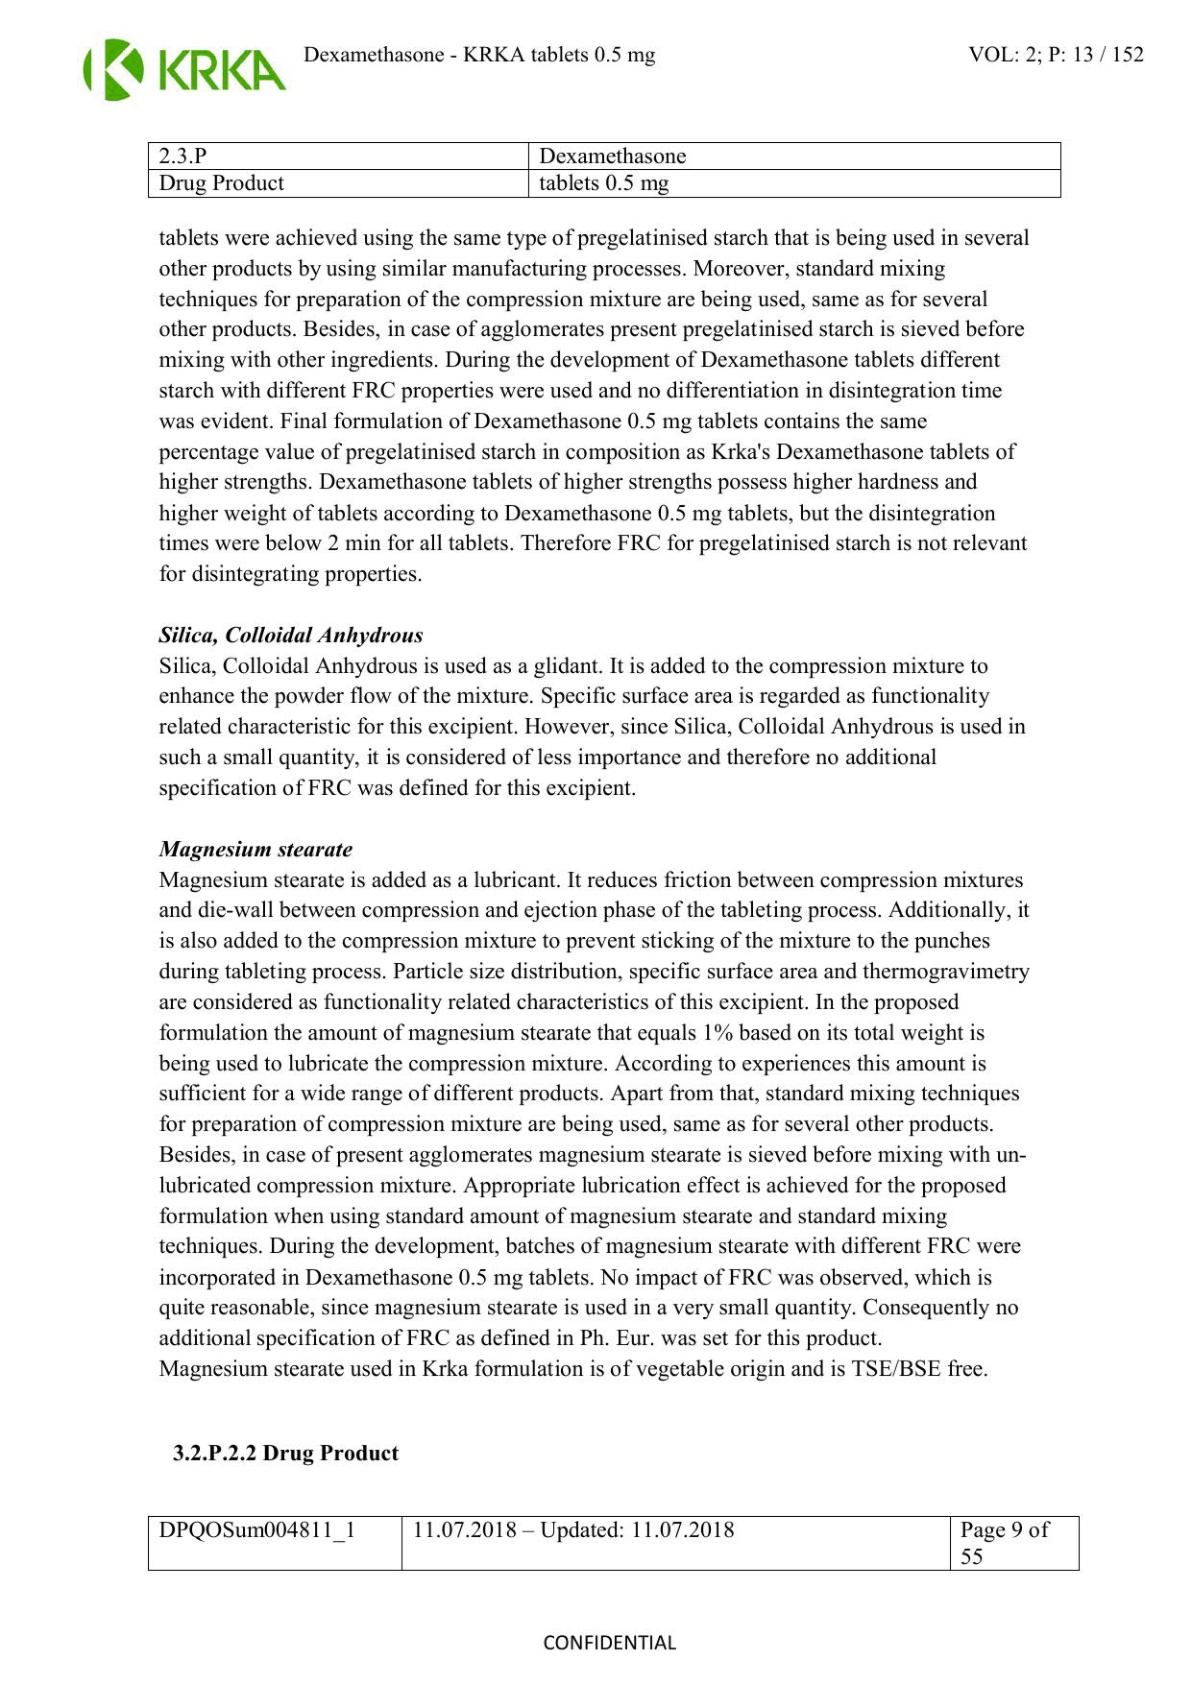full_lined: (147, 141, 1062, 199), (148, 1516, 1080, 1571)
